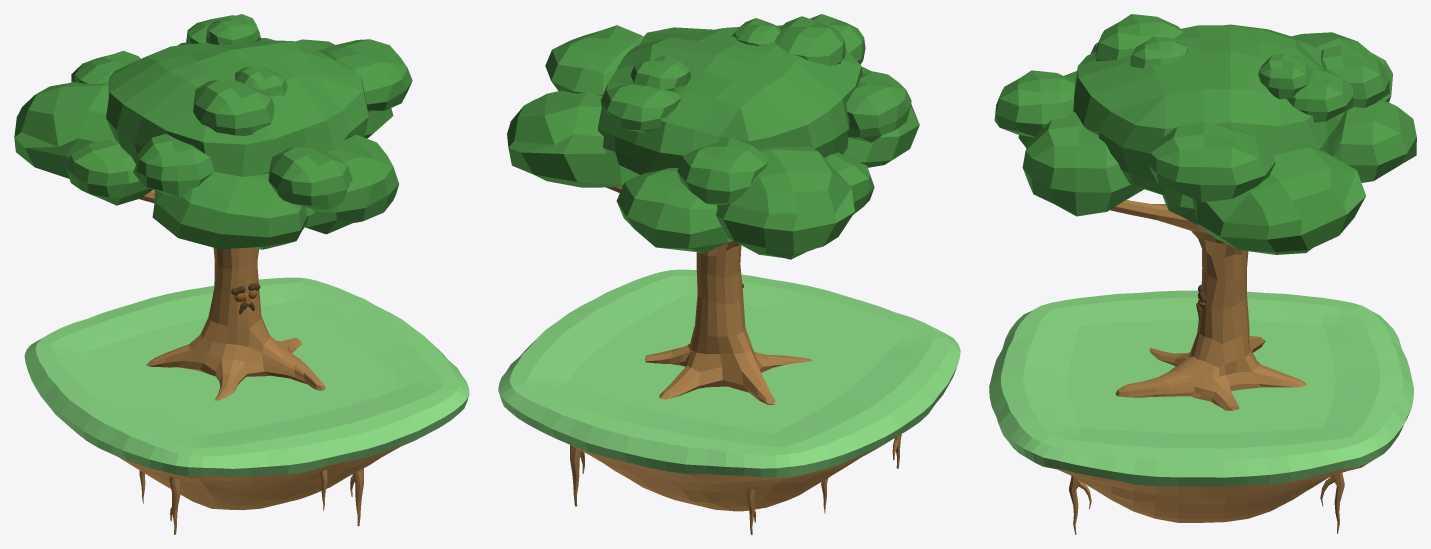
The model's file is World.fbx.
3 renders of one model, left to right at view 1: azimuth 30°, elevation 25°; view 2: azimuth 150°, elevation 25°; view 3: azimuth 270°, elevation 25°, orthographic. The views are drawn at different scales.
Parts seen in each view (by area): view 1: TreeCombined, Ground; view 2: TreeCombined, Ground; view 3: TreeCombined, Ground.
Boxes of the visible parts, x1,y1,x2,y2 form: TreeCombined: [14, 14, 412, 534]; Ground: [24, 277, 469, 510]; TreeCombined: [507, 14, 919, 534]; Ground: [498, 269, 960, 511]; TreeCombined: [994, 14, 1416, 534]; Ground: [989, 290, 1413, 522].
Bounding box in the file's own units: 190 × 228 × 191.
2 materials, 2 textured.
